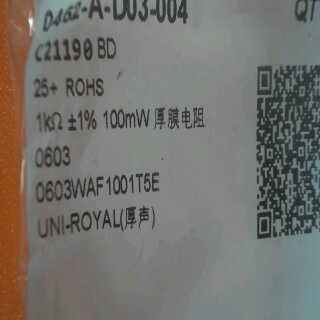1kR: (33, 109, 63, 140)
